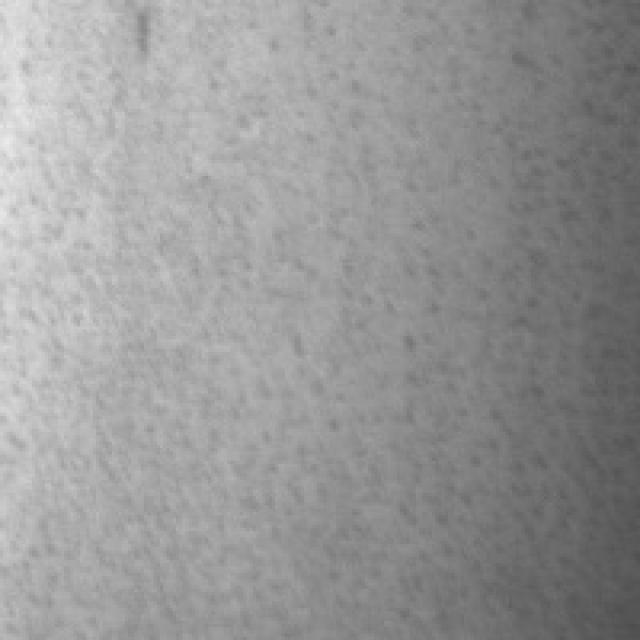pitted_surface: (243, 3, 637, 637)
